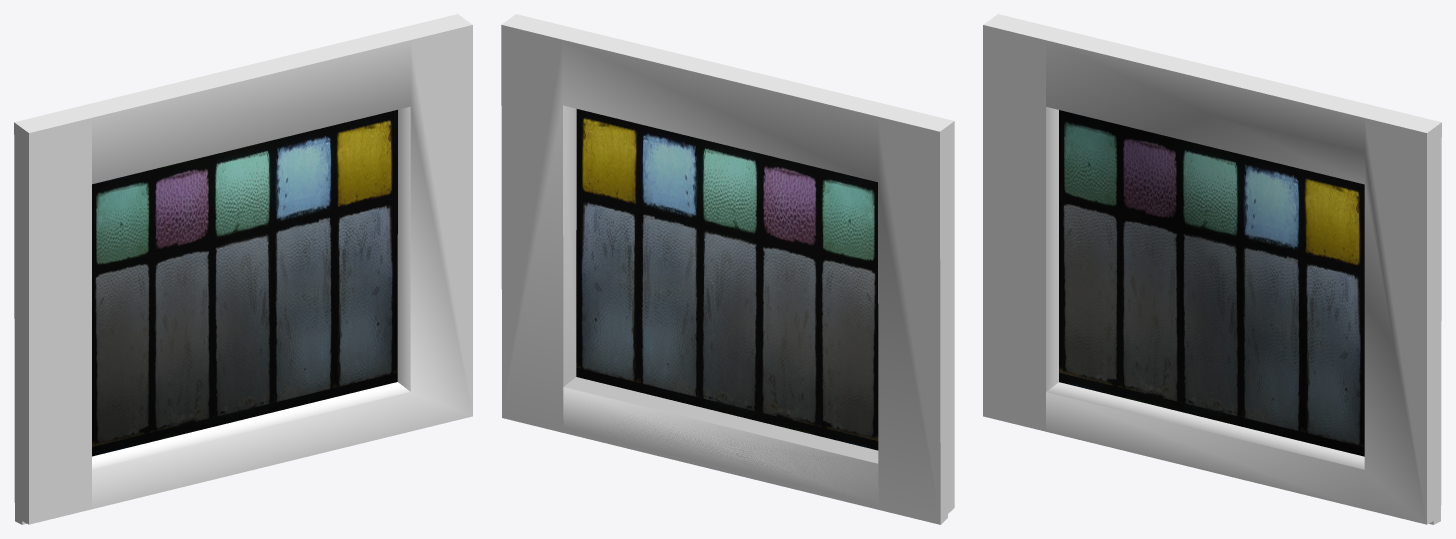
Rendered from StableDoorWhiteUPPER05.fbx.
3 views of the same model, side by side, from view 1: azimuth 30°, elevation 25°; view 2: azimuth 150°, elevation 25°; view 3: azimuth 330°, elevation 25° (orthographic).
Parts seen in each view (by area): view 1: default; view 2: default; view 3: default.
Boxes of the visible parts, left/top/right/bottom form: default: left=14, top=14, right=472, bottom=524; default: left=501, top=14, right=954, bottom=524; default: left=983, top=14, right=1441, bottom=524.
Size of the model in its own units: 113 by 96.82 by 6.56.
